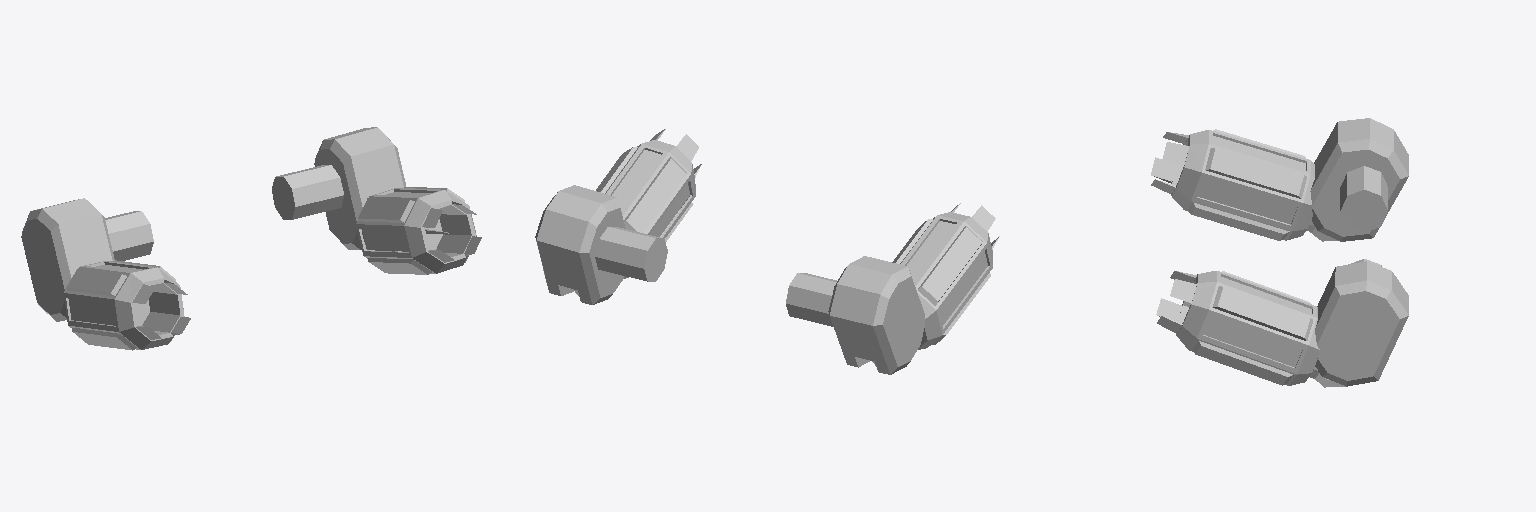
Rendered from player_arm_attack5.obj.
3 views of the same model, side by side, from view 1: azimuth 30°, elevation 25°; view 2: azimuth 150°, elevation 25°; view 3: azimuth 270°, elevation 25° (orthographic).
Visible parts, largest first — view 1: Object009, Object010, Object007, Object008, Object005, Object006; view 2: Object007, Object009, Object008, Object010, Object005, Object006; view 3: Object009, Object010, Object008, Object007, Object006.
Boxes of the visible parts, x1=… form: Object009: x1=64, y1=260, x2=190, y2=350; Object010: x1=356, y1=187, x2=481, y2=274; Object007: x1=21, y1=198, x2=114, y2=321; Object008: x1=314, y1=127, x2=405, y2=249; Object005: x1=272, y1=165, x2=343, y2=219; Object006: x1=105, y1=211, x2=153, y2=260; Object007: x1=828, y1=256, x2=924, y2=374; Object009: x1=872, y1=203, x2=999, y2=365; Object008: x1=535, y1=185, x2=625, y2=304; Object010: x1=573, y1=129, x2=701, y2=295; Object005: x1=595, y1=227, x2=667, y2=281; Object006: x1=786, y1=273, x2=836, y2=326; Object009: x1=1151, y1=129, x2=1337, y2=241; Object010: x1=1156, y1=271, x2=1345, y2=387; Object008: x1=1315, y1=261, x2=1408, y2=386; Object007: x1=1310, y1=118, x2=1408, y2=241; Object006: x1=1340, y1=166, x2=1387, y2=232.
Size of the model in its own units: 176 by 52.34 by 109.